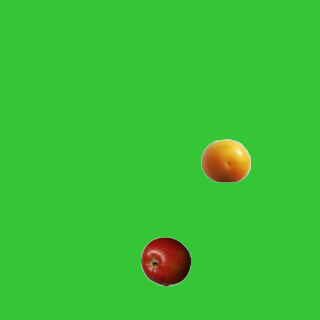Apple Braeburn: (140, 236, 190, 286)
Cherry Wax Yellow: (200, 135, 250, 185)
